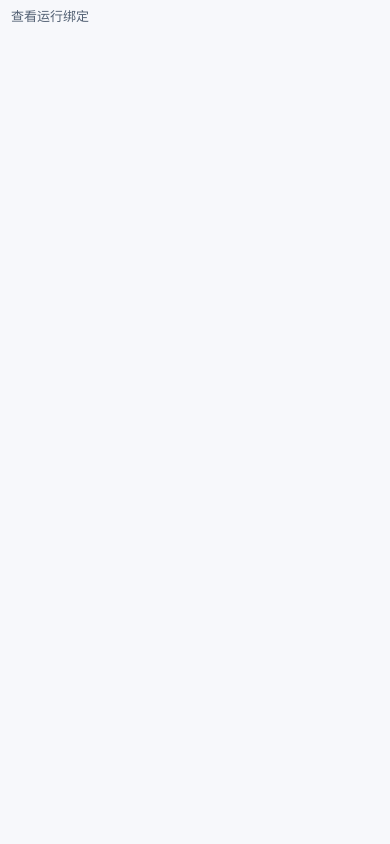
Scenario: RunBindingButton › opens modal with pretty JSON on success
This screenshot has width=390, height=844.
Click the button with test id "run-binding-open": (50, 16) [0,0,100,32]
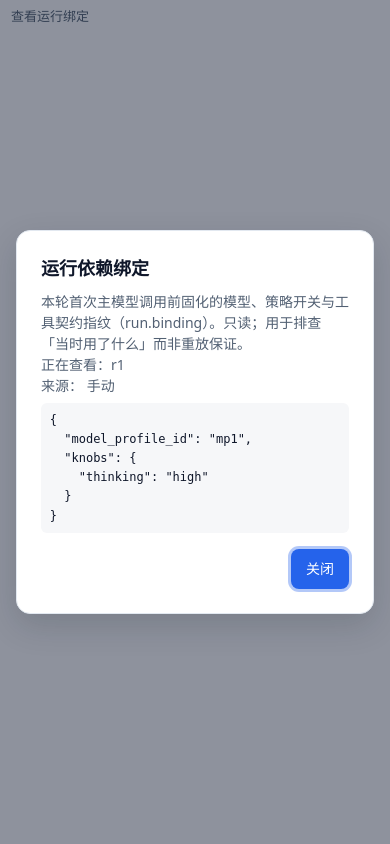
Result: the text with test id "run-binding-body" shows "model_profile_id" at [50,413,252,522]
Result: the text with test id "run-binding-body" shows "mp1" at [50,413,252,522]
